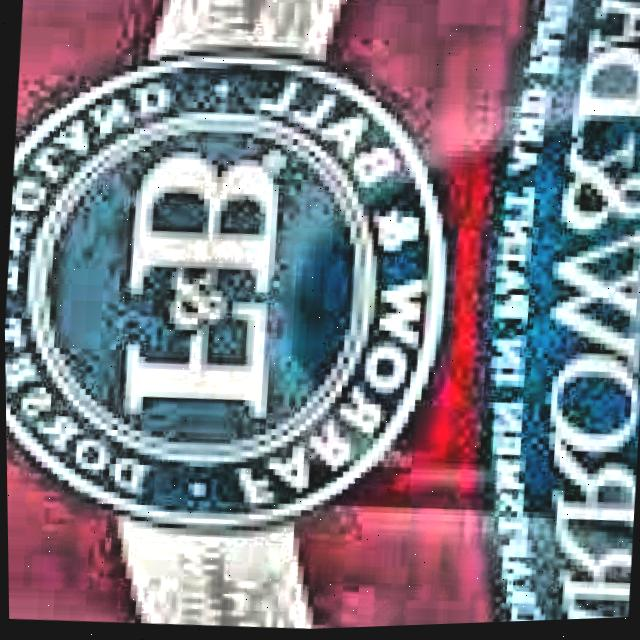metal: (4, 0, 640, 631)
